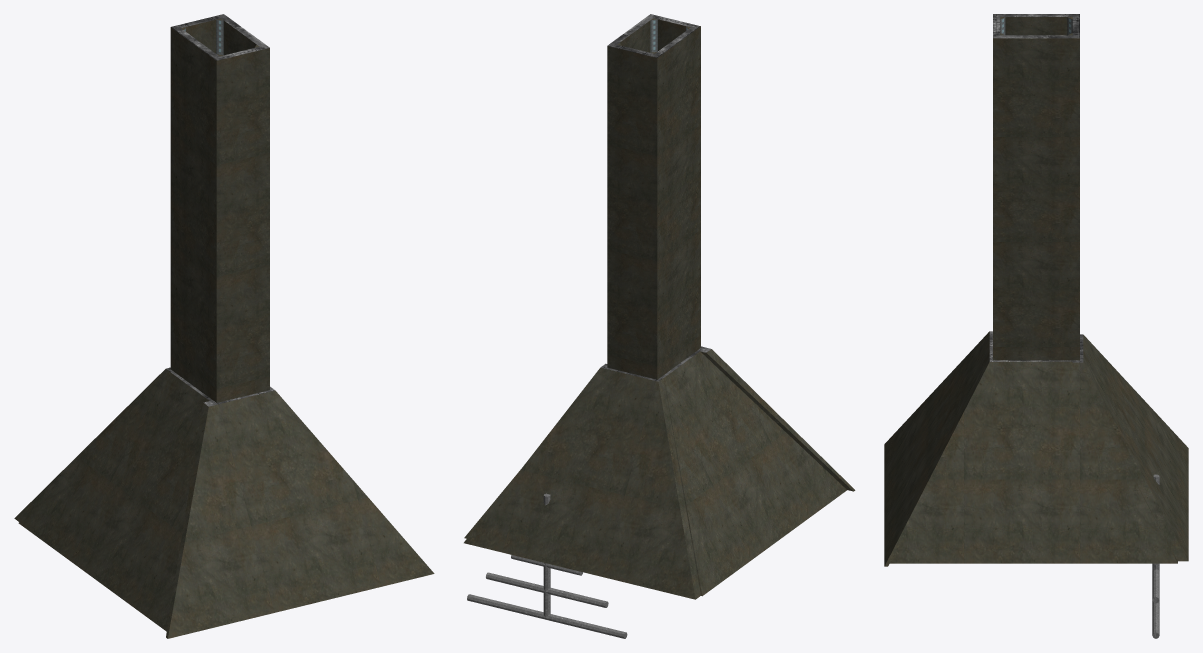
File: sector_shaft2.fbx
The picture shows the model from 3 angles, left to right: view 1: azimuth 30°, elevation 25°; view 2: azimuth 150°, elevation 25°; view 3: azimuth 270°, elevation 25°; orthographic projection. The views are drawn at different scales.
Visible parts, largest first — view 1: Object; view 2: Object; view 3: Object.
Part boxes in pixels (box(x1,y1,x2,y2)): Object: box(14, 14, 434, 638); Object: box(464, 14, 855, 638); Object: box(884, 14, 1188, 638).
Bounding box in the file's own units: 4000 × 8400 × 4200.
